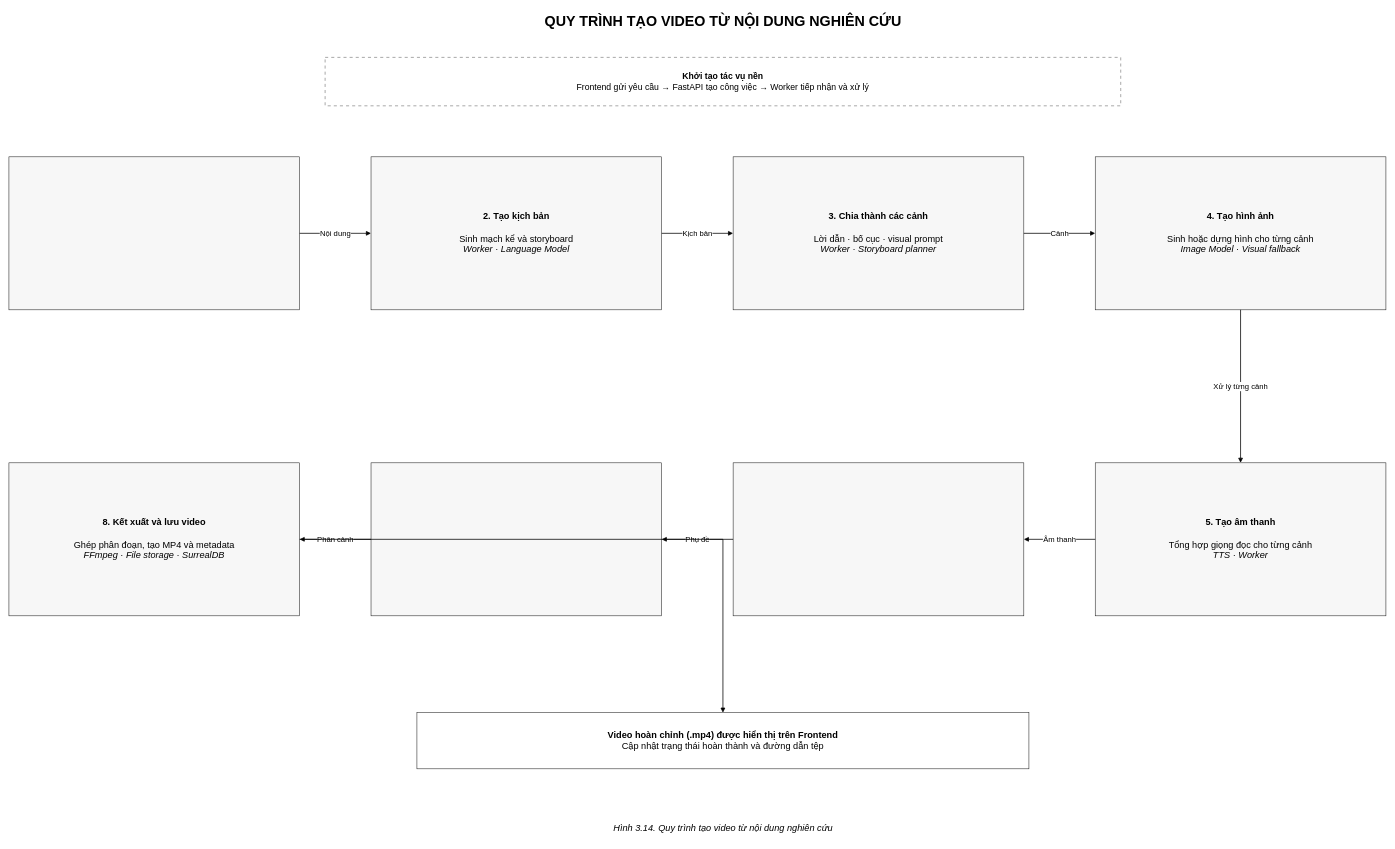
This 1395x849 diagram has some shape labels left out. The shapes that lost their labels are listed below. From the top down, each one's centre as x and y in pixels, then its label:
At point (154, 233): "1. Chọn nội dung Chọn sổ tay, nguồn hoặc chủ đề Người dùng · Frontend".
At point (516, 539): "7. Đồng bộ và ghép cảnh Hình ảnh · giọng đọc · phụ đề Frame composer · FFmpeg".
At point (878, 539): "6. Tạo phụ đề Chia câu và tính thời lượng hiển thị Caption processor".
